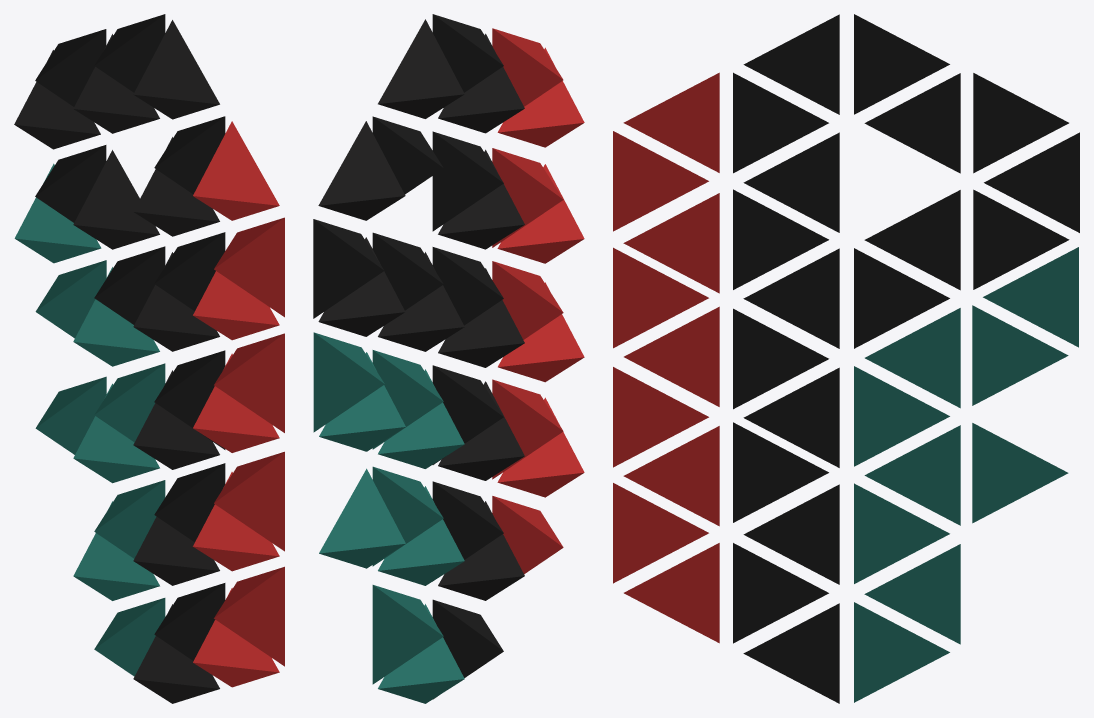
3 views of the same model, side by side, from view 1: azimuth 30°, elevation 25°; view 2: azimuth 150°, elevation 25°; view 3: azimuth 270°, elevation 25° (orthographic).
Parts seen in each view (by area): view 1: Red2, Black.006, Red8, Red1, Red9, Red7, Black.013, Red3, Black.002, Red6, Black.001, Green.003 (+24 smaller); view 2: Black.016, Cone.046, Green.005, Green.004, Green.003, Black.015, Black.005, Black.009, Red8, Green.006, Green.008, Green.009 (+24 smaller); view 3: Green.005, Green.006, Green.003, Red6, Green.002, Black.013, Green.001, Black.014, Black.001, Black.016, Red2, Black.003 (+24 smaller).
Part boxes in pixels (box(x1,y1,x2,y2)): Red2: box(193, 121, 279, 220); Black.006: box(133, 20, 219, 119); Red8: box(214, 451, 284, 551); Red1: box(214, 217, 284, 317); Red9: box(214, 333, 284, 432); Red7: box(214, 566, 284, 666); Black.013: box(73, 150, 159, 249); Red3: box(193, 271, 279, 340); Black.002: box(133, 516, 219, 585); Red6: box(193, 588, 279, 687); Black.001: box(133, 604, 219, 703); Green.003: box(73, 501, 159, 600); Black.016: box(318, 121, 405, 220); Cone.046: box(378, 19, 464, 118); Green.005: box(319, 468, 405, 568); Green.004: box(313, 332, 384, 432); Green.003: box(372, 585, 443, 684); Black.015: box(313, 219, 384, 318); Black.005: box(432, 131, 503, 231); Black.009: box(438, 268, 524, 367); Red8: box(498, 282, 584, 382); Green.006: box(319, 352, 405, 451); Green.008: box(378, 486, 464, 585); Green.009: box(378, 369, 464, 468); Green.005: box(972, 423, 1068, 523); Green.006: box(972, 305, 1068, 405); Green.003: box(864, 544, 960, 644); Red6: box(624, 543, 719, 643); Green.002: box(864, 425, 960, 525); Black.013: box(864, 190, 960, 290); Green.001: box(865, 308, 960, 408); Black.014: box(864, 73, 960, 173); Black.001: box(743, 603, 839, 703); Black.016: box(973, 73, 1068, 173); Red2: box(623, 72, 719, 172); Black.003: box(743, 367, 839, 467).
Size of the model in its own units: 0.8 by 9.48 by 5.81.
